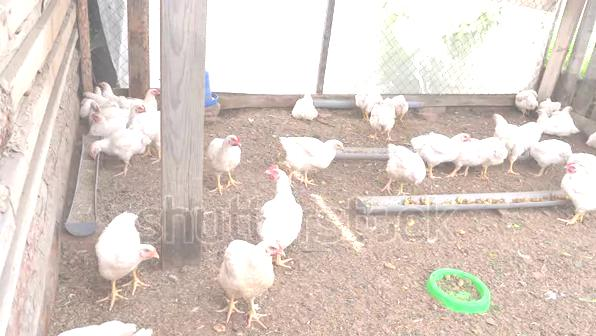Pollos: (95, 211, 160, 279), (224, 239, 286, 296), (262, 165, 302, 237), (90, 129, 153, 162), (494, 112, 536, 158), (385, 142, 425, 185), (285, 136, 344, 165), (418, 131, 473, 162), (561, 163, 594, 209), (209, 133, 242, 175), (537, 107, 577, 133), (127, 103, 161, 131), (291, 87, 318, 122), (368, 103, 396, 135)
